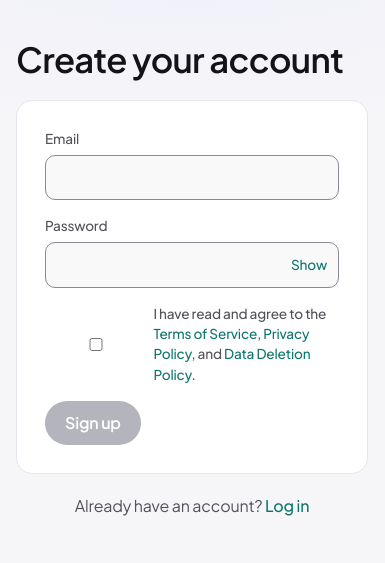
Scenario: SignupPage › shows the API error message on failed signup
Type "dupe@example.com" into the field labelled "Email" at (192, 178), box [45, 155, 339, 200]
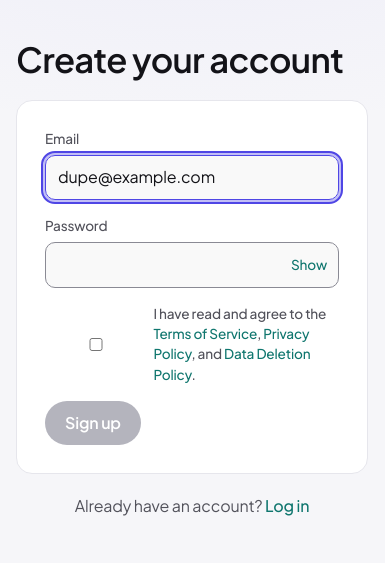
Type "supersecret123" into the password field labelled "Password" at (192, 265), box [45, 242, 339, 288]
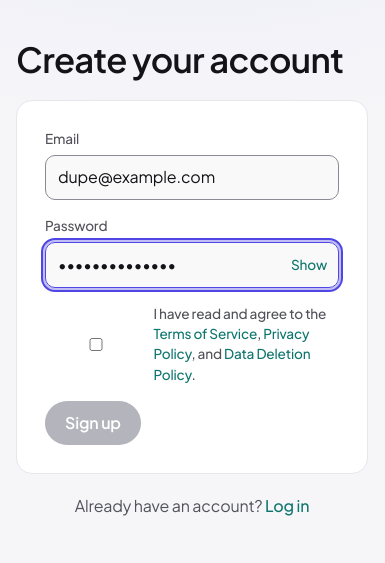
Click the checkbox at (96, 344), box [45, 338, 147, 351]
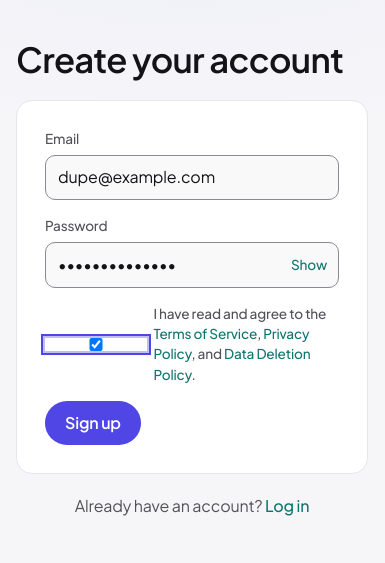
Click the button "Sign up" at (93, 423), box [45, 401, 141, 445]
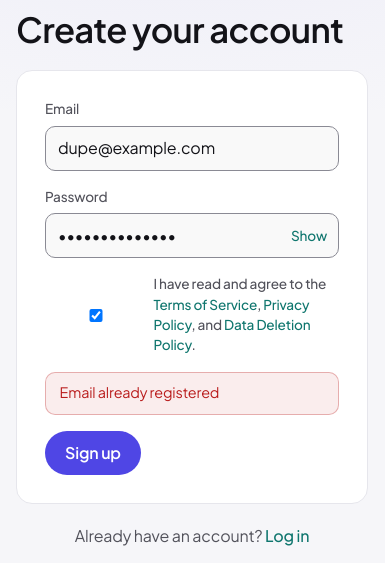
Expected: the message reads "Email already registered", [60, 383, 219, 401]
